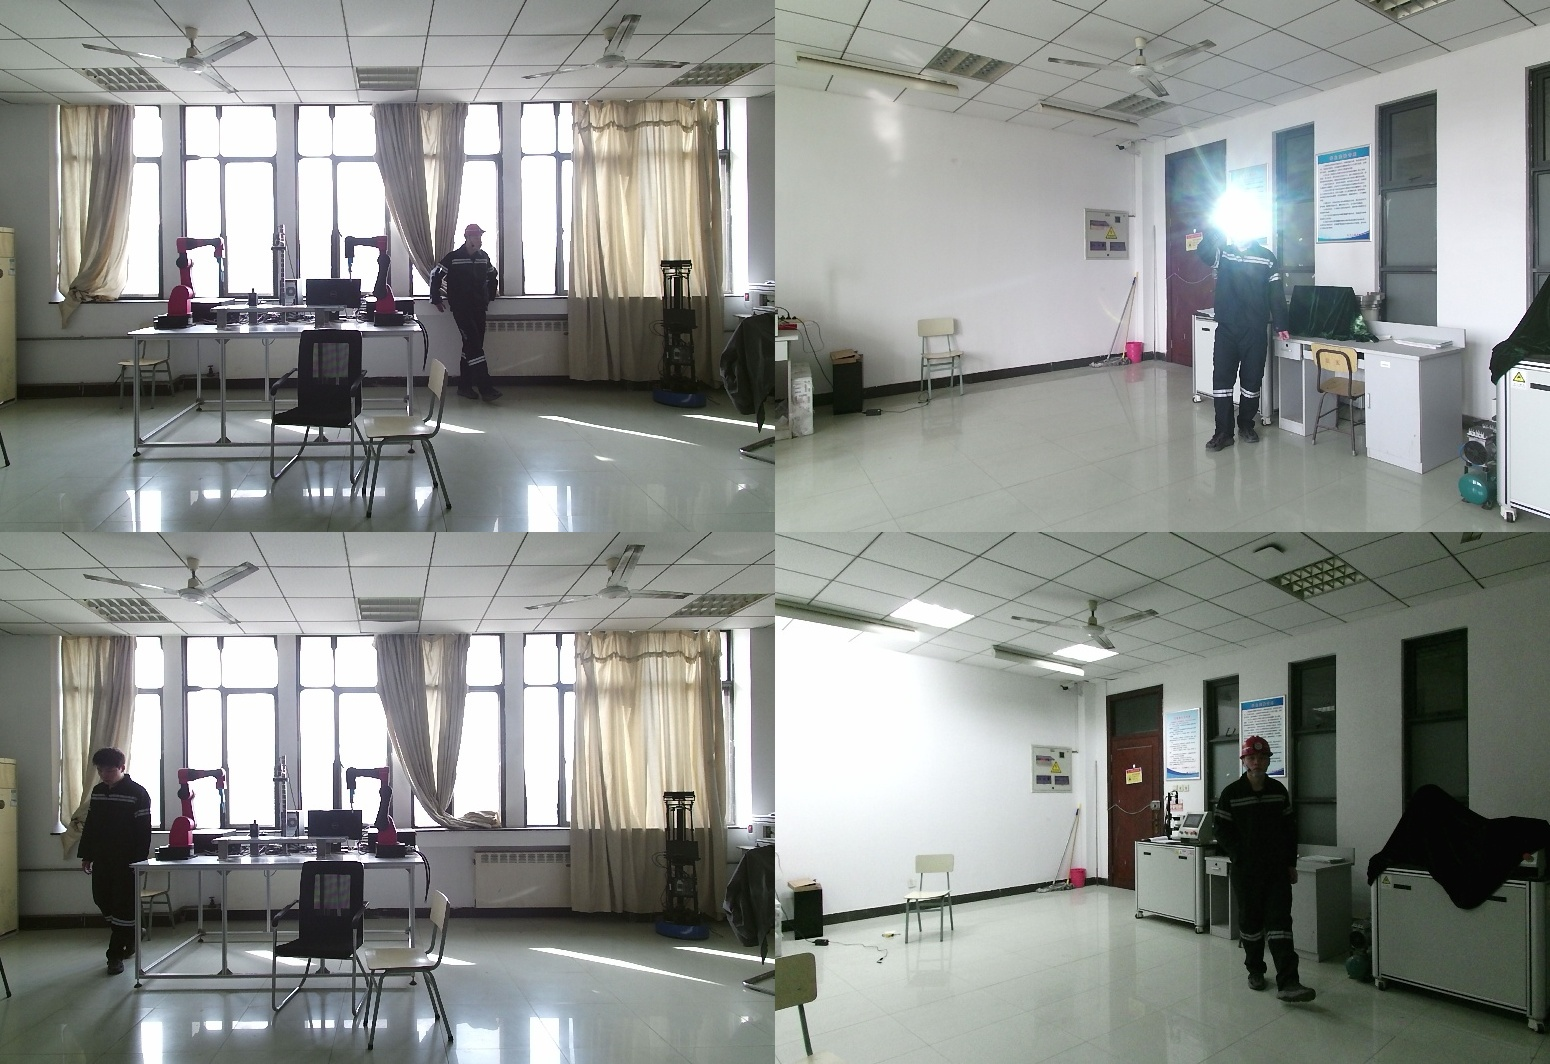person: (1209, 735, 1320, 997), (1199, 209, 1291, 447), (77, 748, 151, 975), (433, 226, 516, 406)
